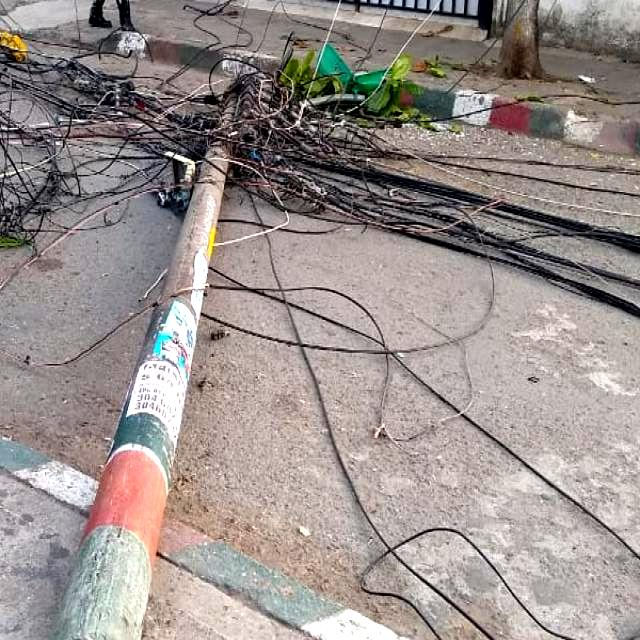Broken Pole: (55, 64, 273, 640)
